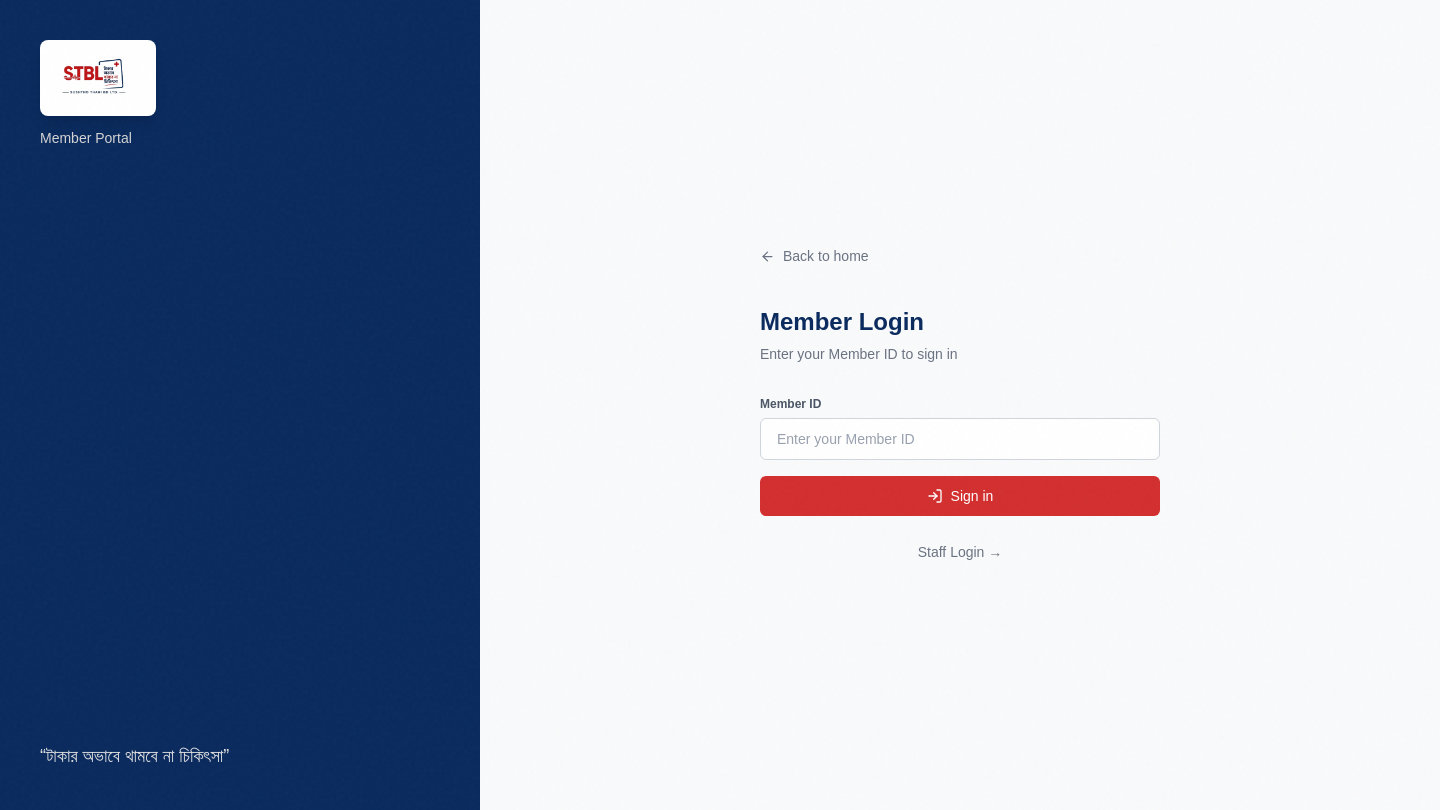
LoginPage › shows an error message when member login fails
The image size is (1440, 810).
In the field with placeholder "Enter your Member ID": coordinates (960, 439) [760,418,1160,460], type "ATB-BAD"
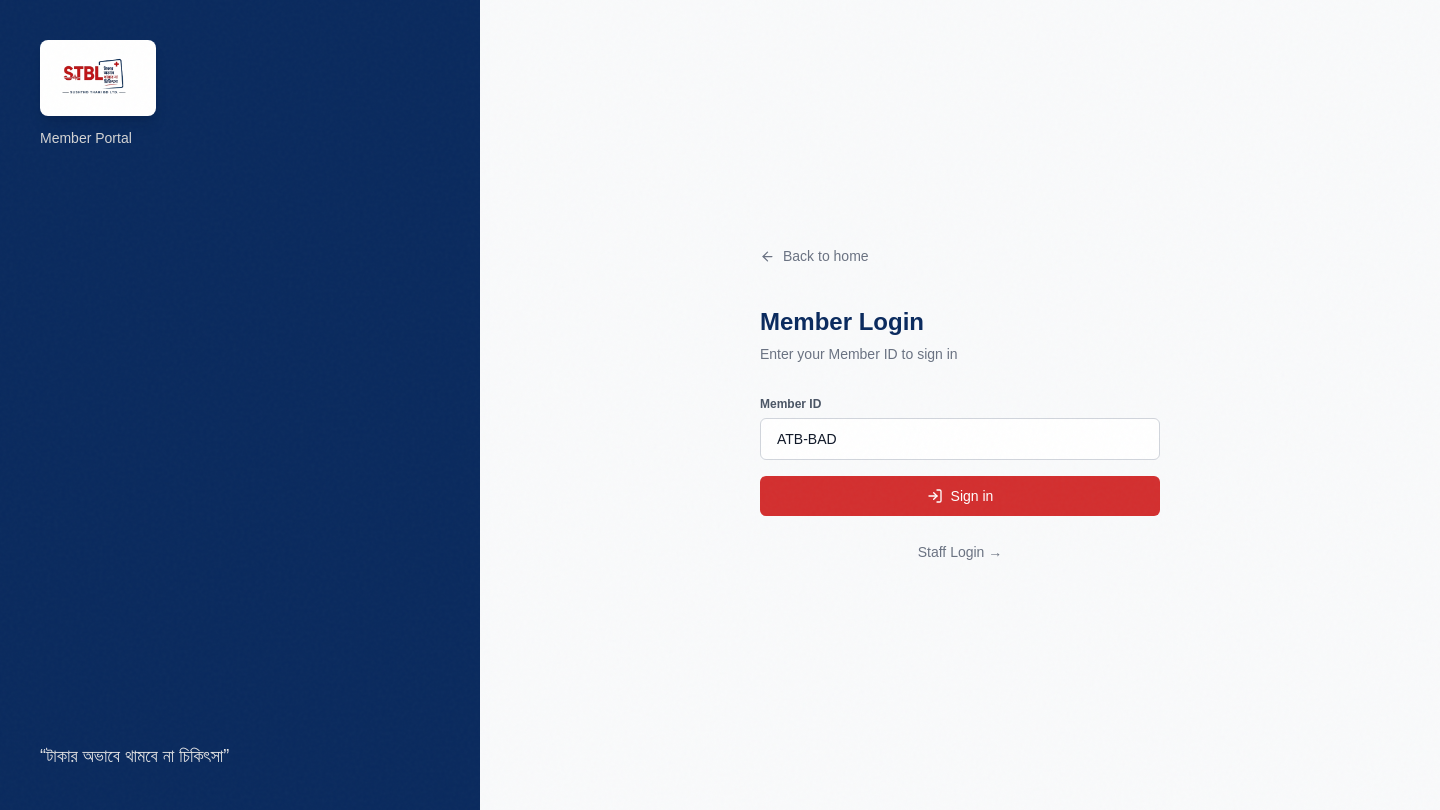
Click the button "Sign in": coordinates (960, 496) [760,476,1160,516]
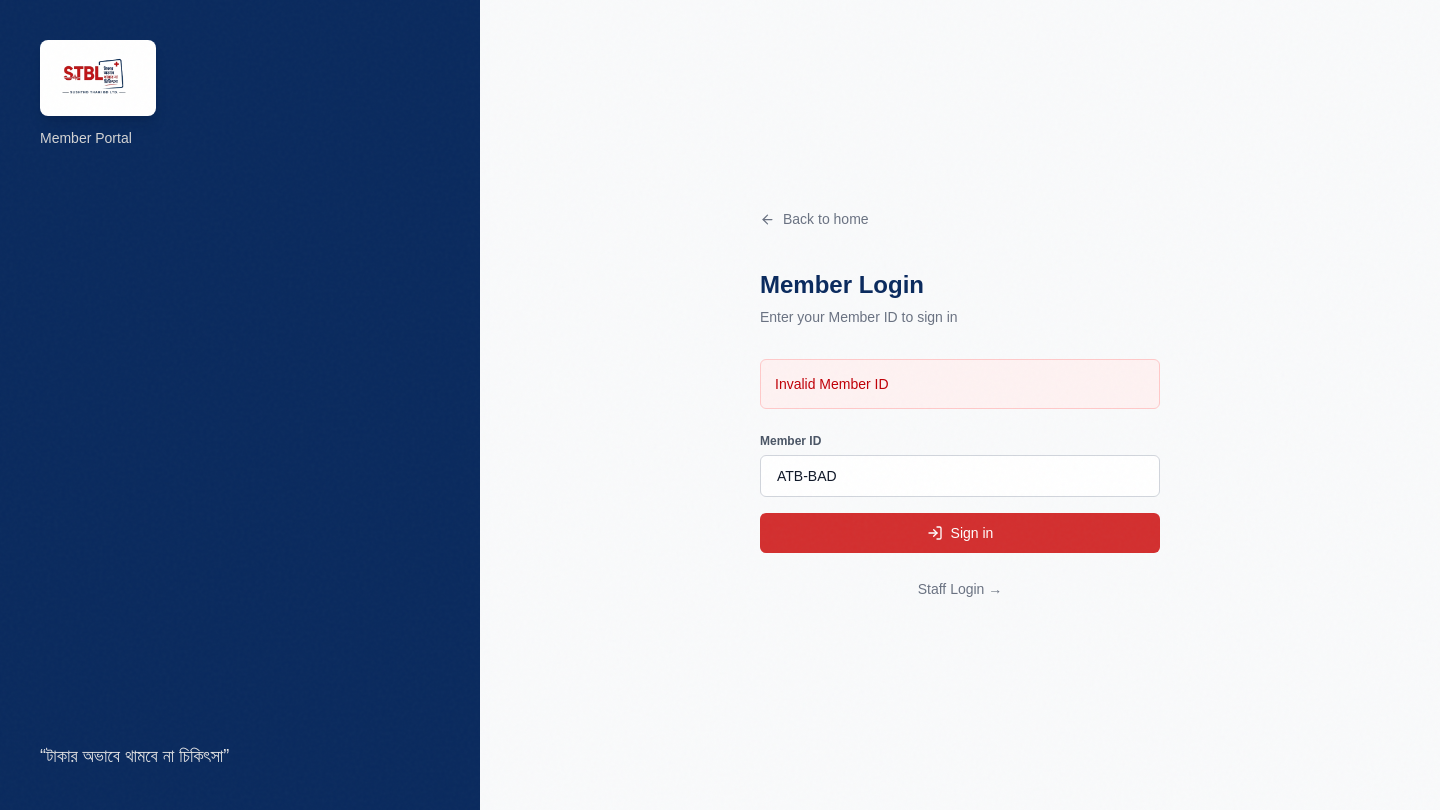
Check: the text "Invalid Member ID" is shown, box [760,359,1160,409]
